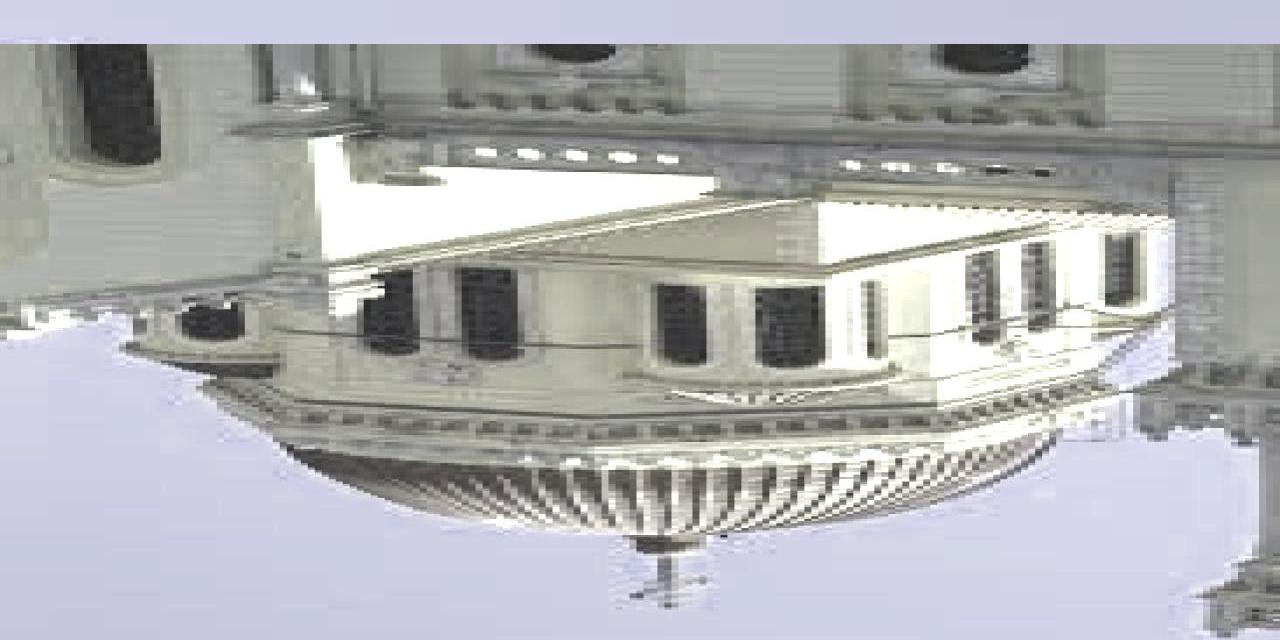Agios Minas: (1, 45, 1280, 640)
